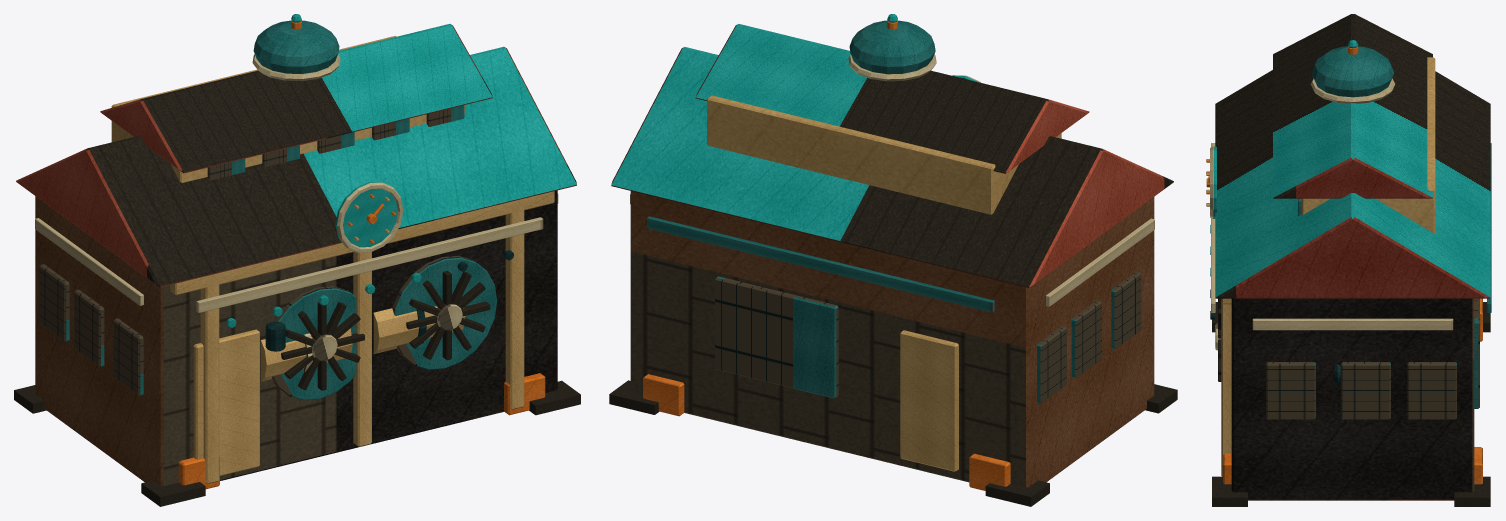
File: dynamo-hall.e6.glb
The picture shows the model from 3 angles, left to right: view 1: azimuth 30°, elevation 25°; view 2: azimuth 150°, elevation 25°; view 3: azimuth 270°, elevation 25°; orthographic projection. The views are drawn at different scales.
Visible parts, largest first — view 1: AtomicHarborWorksE6; view 2: AtomicHarborWorksE6; view 3: AtomicHarborWorksE6.
Boxes of the visible parts, x1,y1,x2,y2 form: AtomicHarborWorksE6: (14,14,580,506); AtomicHarborWorksE6: (609,14,1177,506); AtomicHarborWorksE6: (1206,14,1491,506).
Size of the model in its own units: 5.38 by 4.73 by 3.32.
1 material, 1 textured.
